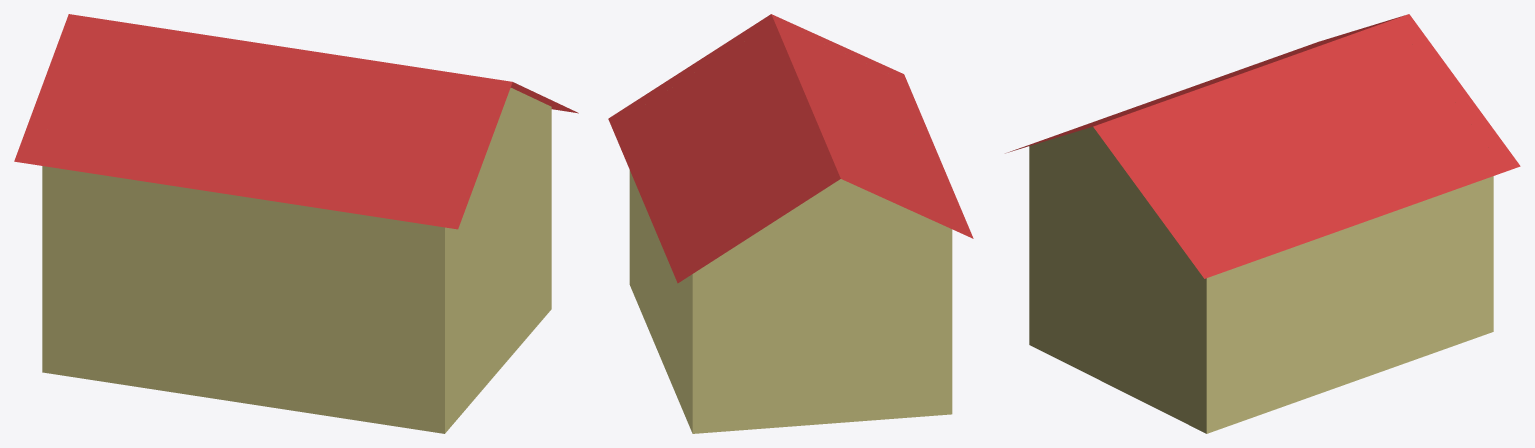
The picture shows the model from 3 angles, left to right: view 1: azimuth 30°, elevation 25°; view 2: azimuth 150°, elevation 25°; view 3: azimuth 270°, elevation 25°; orthographic projection. The views are drawn at different scales.
Size of the model in its own units: 19.74 by 20.2 by 11.3.
